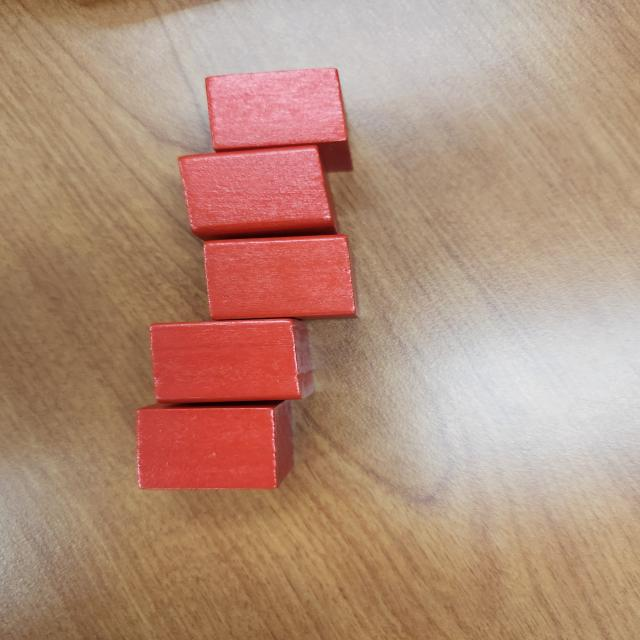red: (179, 144, 340, 242), (205, 68, 354, 170), (134, 400, 298, 491), (149, 317, 309, 404), (204, 234, 358, 321)
